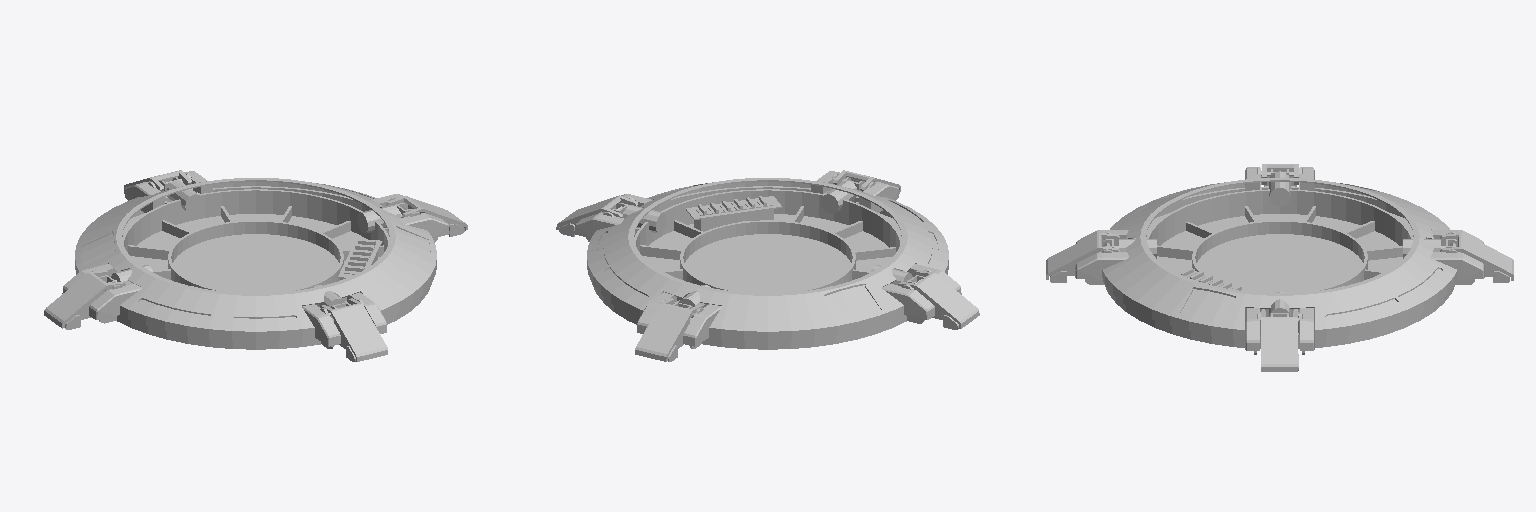
File: Button_Outer.obj
3 renders of one model, left to right at view 1: azimuth 30°, elevation 25°; view 2: azimuth 150°, elevation 25°; view 3: azimuth 270°, elevation 25°, orthographic.
Parts seen in each view (by area): view 1: Body.dmx/button_model.dmx.mesh_0.001; view 2: Body.dmx/button_model.dmx.mesh_0.001; view 3: Body.dmx/button_model.dmx.mesh_0.001.
Boxes of the visible parts, <box> form: Body.dmx/button_model.dmx.mesh_0.001: <box>44,170,467,361</box>; Body.dmx/button_model.dmx.mesh_0.001: <box>556,170,979,361</box>; Body.dmx/button_model.dmx.mesh_0.001: <box>1046,164,1513,371</box>.
Size of the model in its own units: 122 by 11.09 by 122.